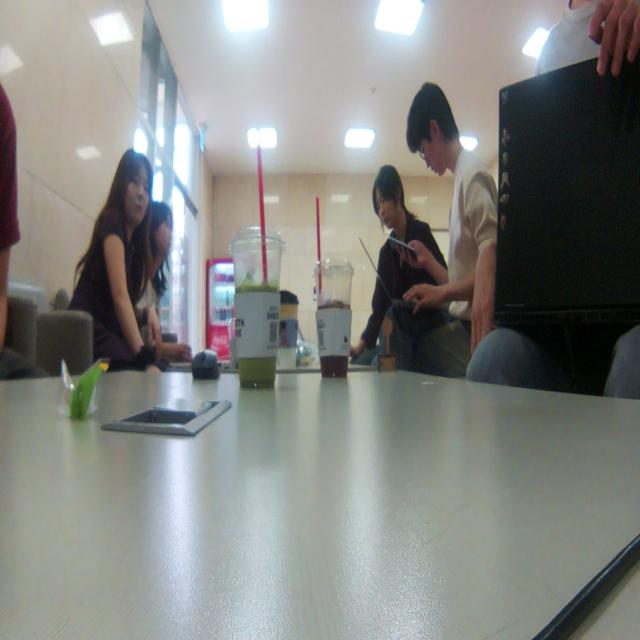target: (378, 316, 398, 376)
